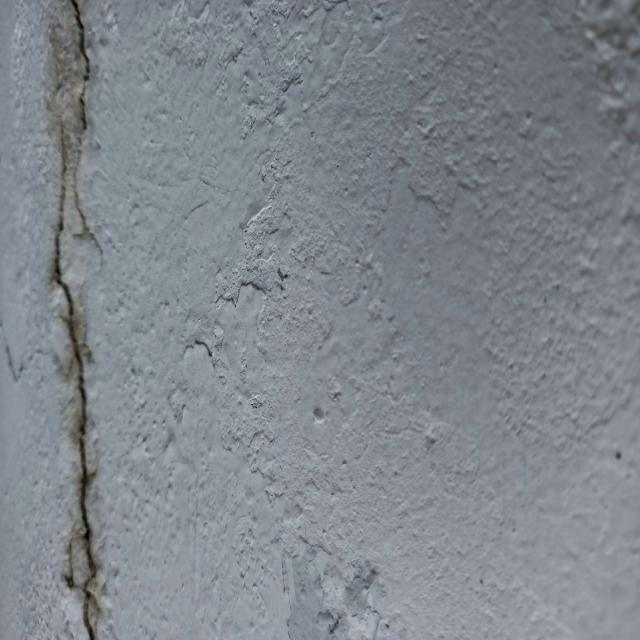SurfaceCrack: (6, 2, 639, 640)
